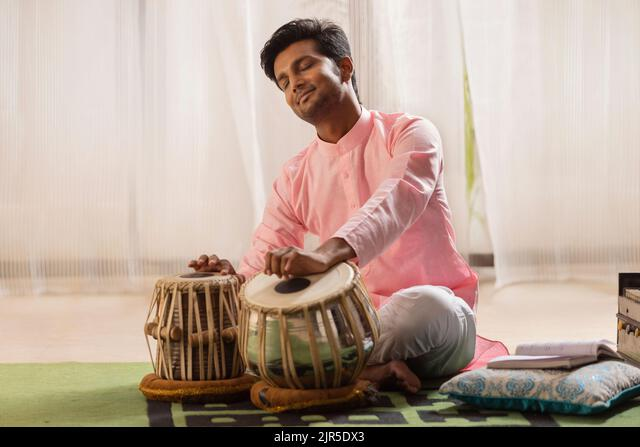tabla: (241, 262, 378, 395), (146, 267, 240, 378)
